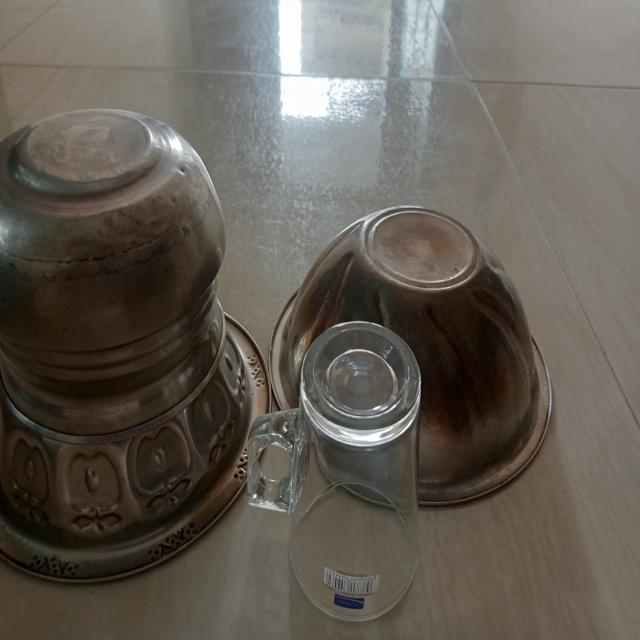glass-VX4N: (245, 322, 427, 633)
